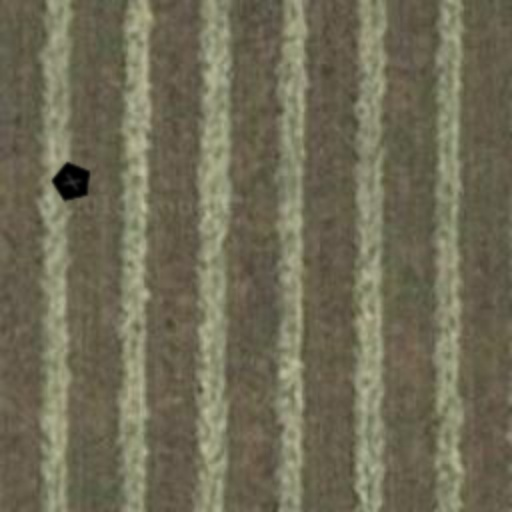pentagon: (44, 154, 100, 210)
